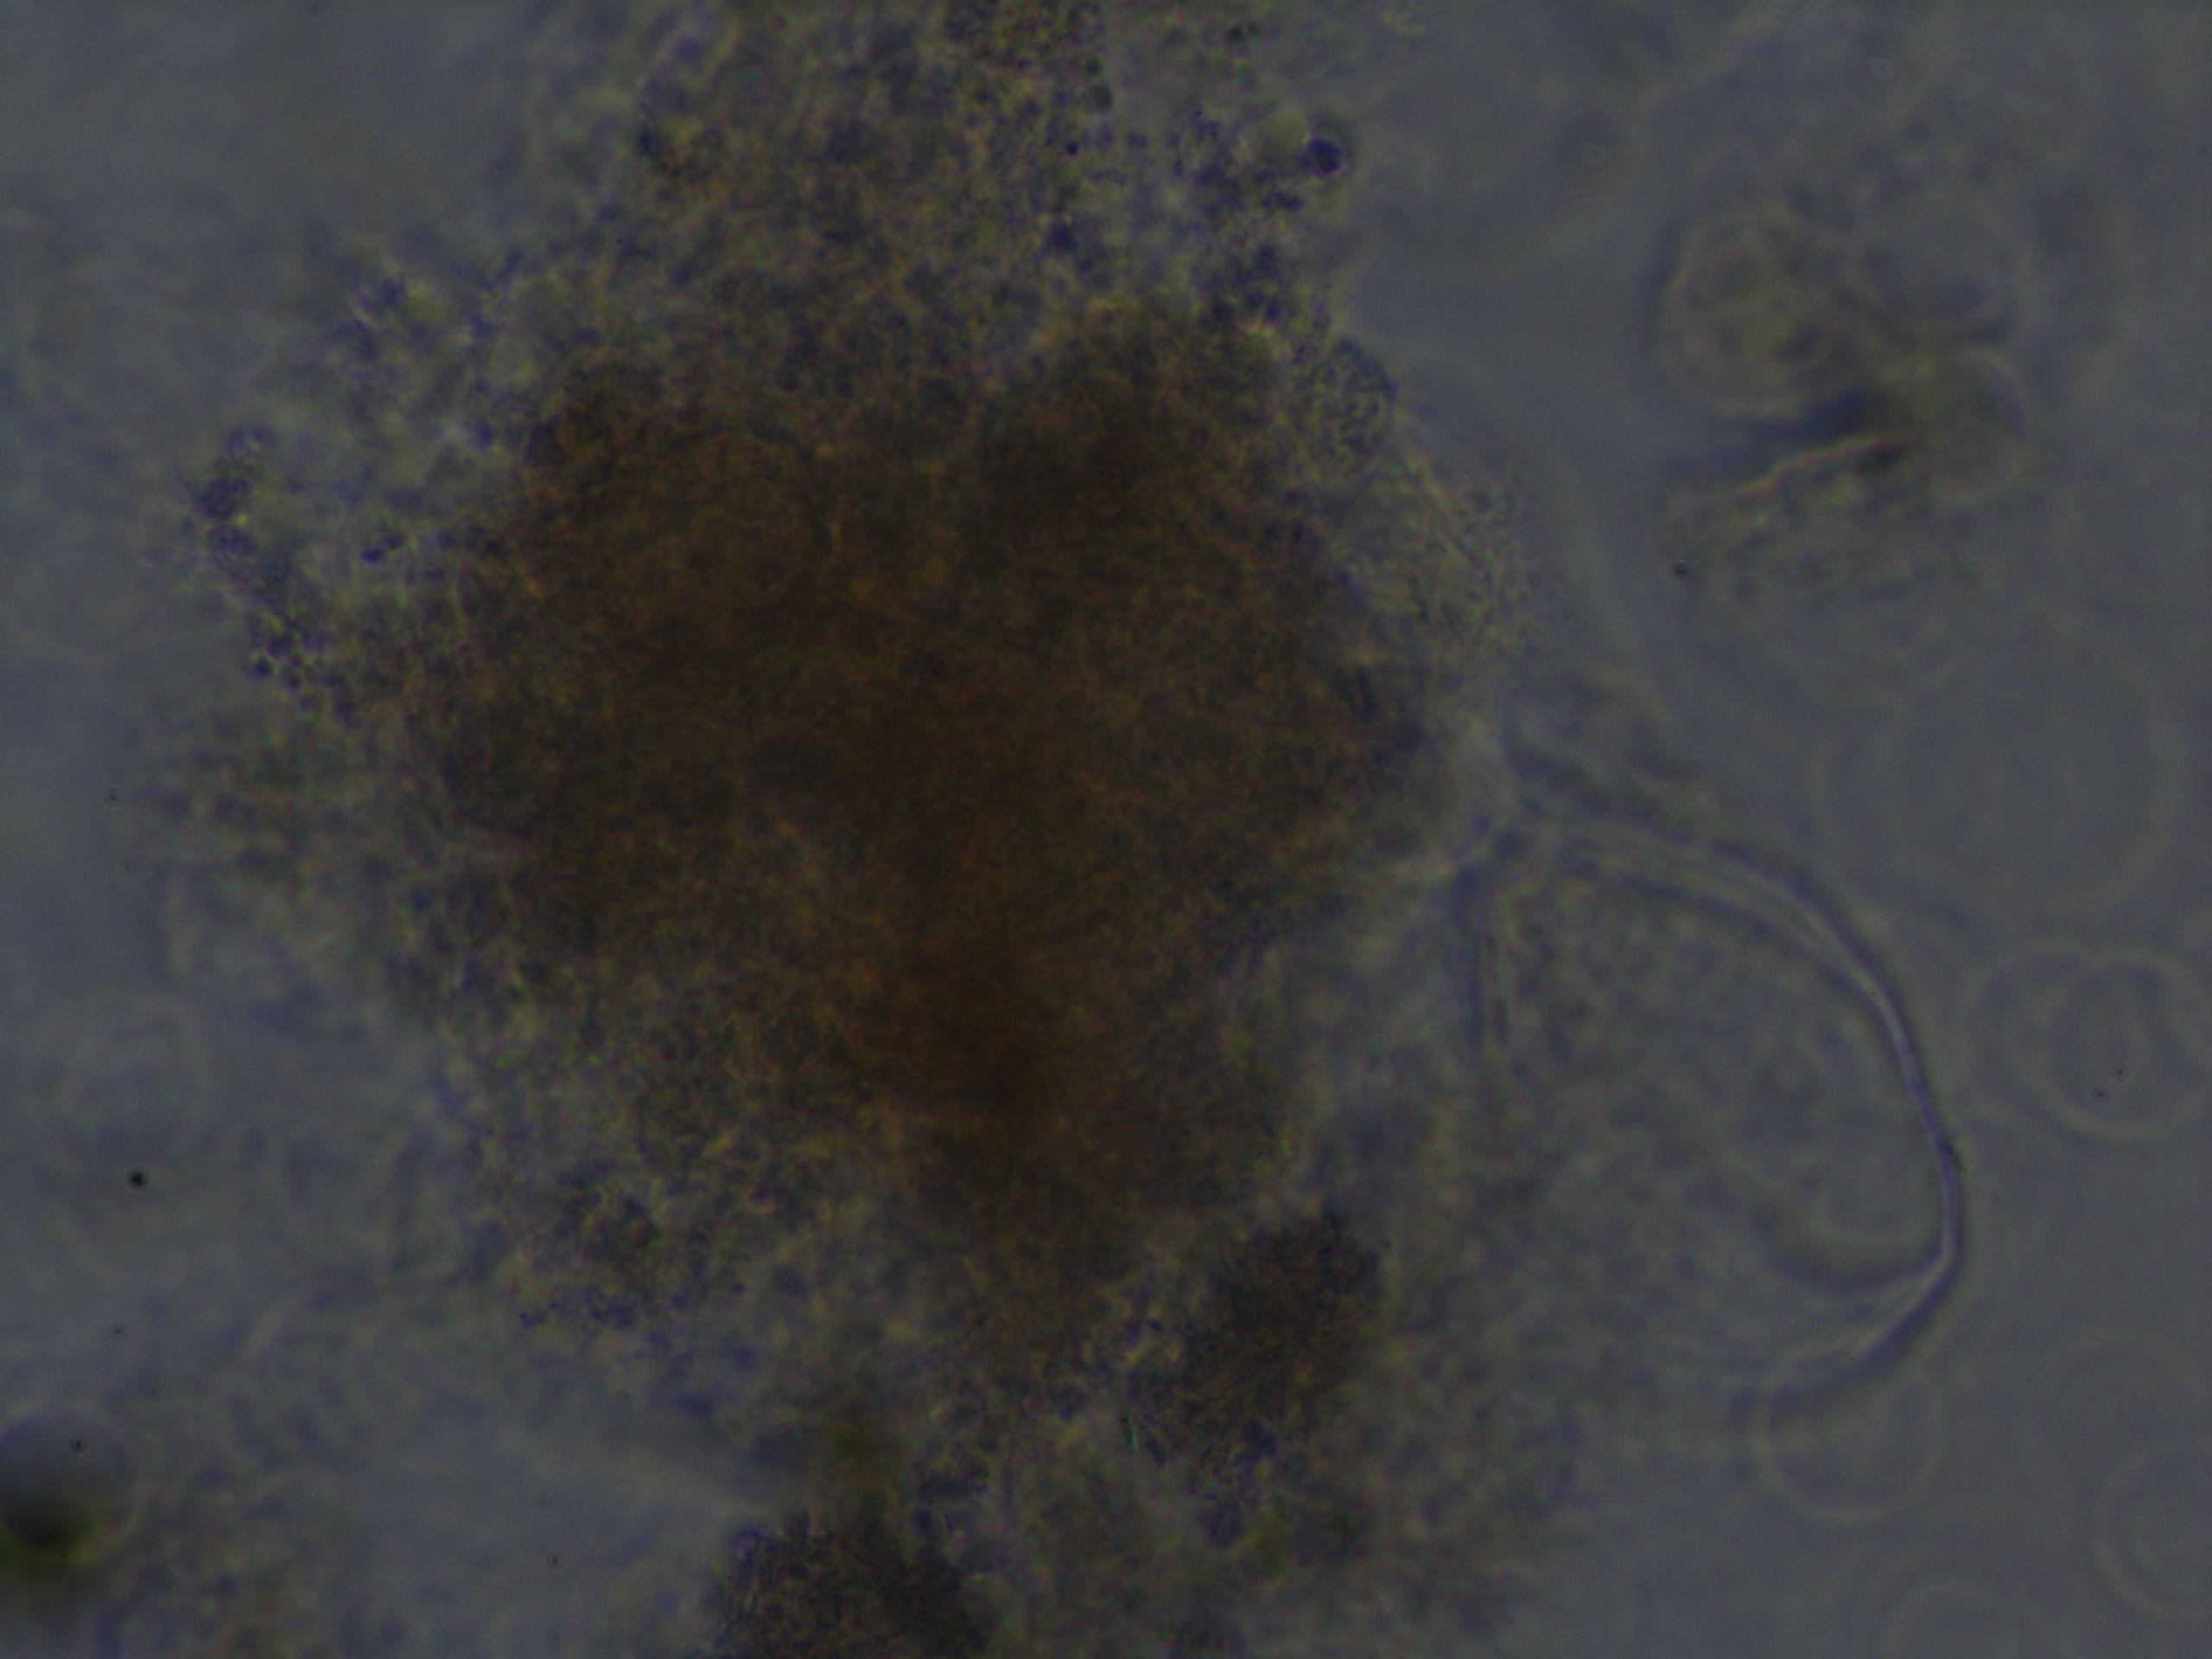spherical_floc: (253, 0, 1491, 1659)
